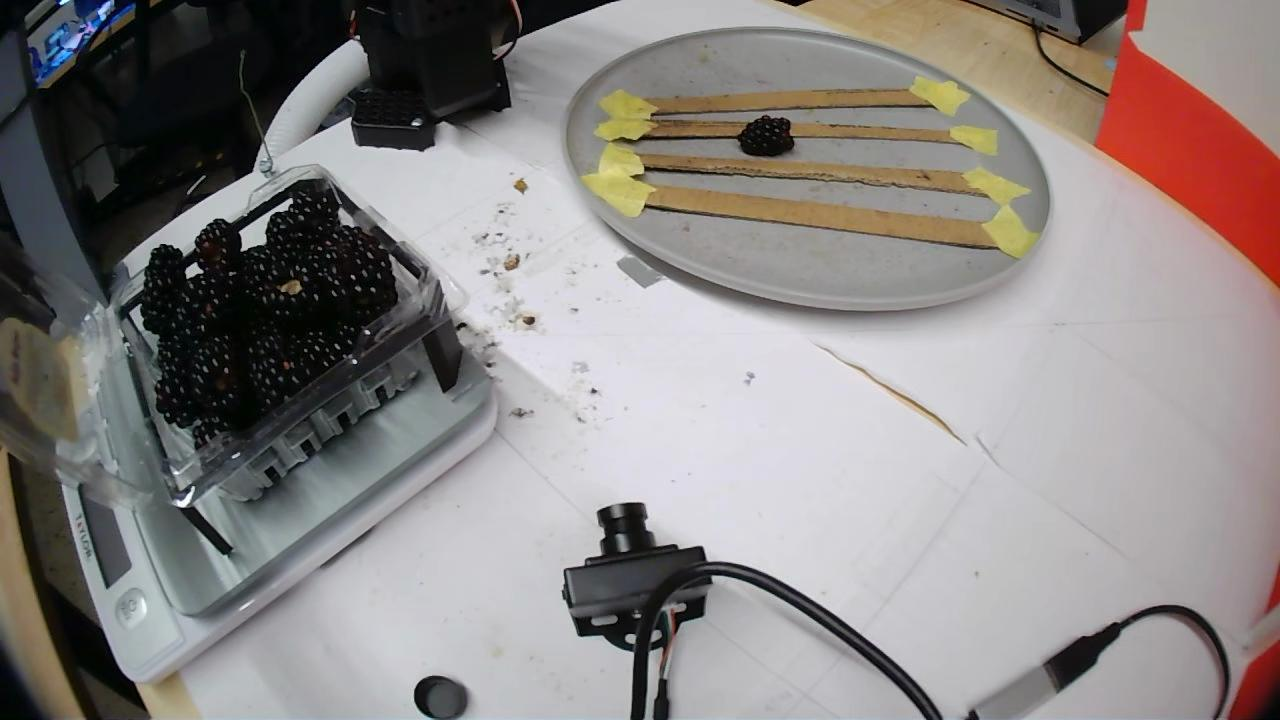berry: (317, 225, 397, 326), (192, 321, 250, 418), (240, 311, 294, 413), (261, 266, 325, 325), (290, 323, 353, 380), (143, 244, 187, 313), (155, 370, 199, 428), (285, 180, 340, 226), (195, 219, 240, 272), (737, 115, 794, 156), (266, 210, 317, 253), (240, 245, 283, 289), (140, 287, 169, 336), (191, 420, 230, 449)
